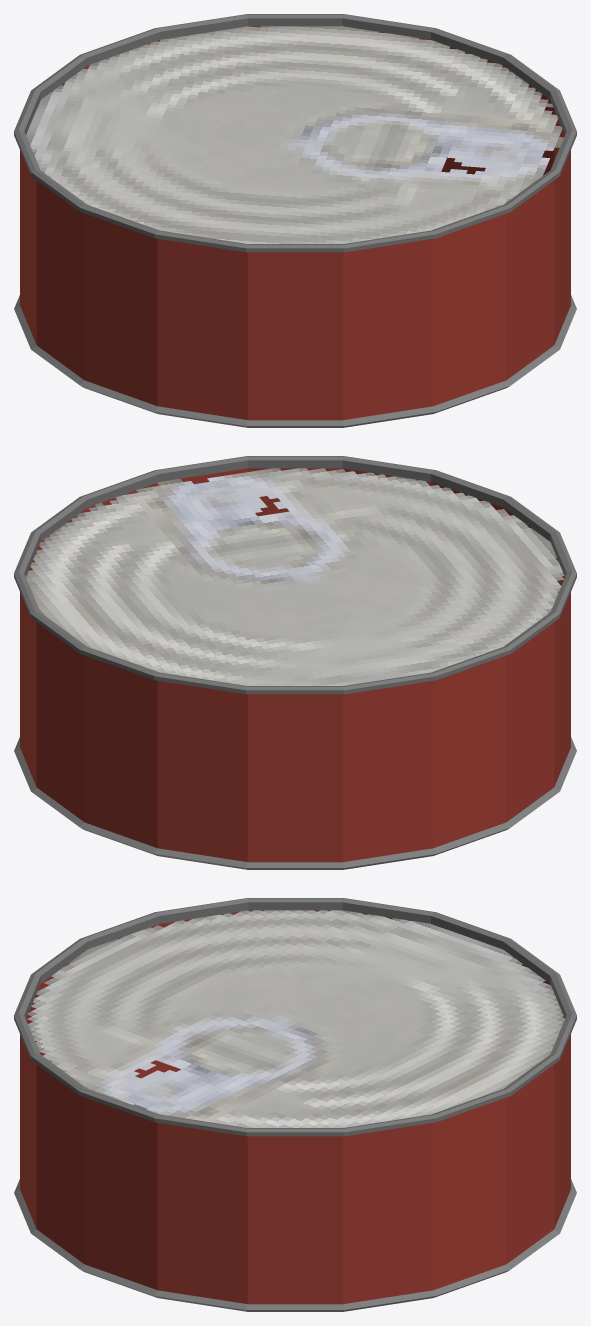
Rendered from TinCan.fbx.
The picture shows the model from 3 angles, top to bottom: view 1: azimuth 30°, elevation 25°; view 2: azimuth 150°, elevation 25°; view 3: azimuth 270°, elevation 25°; orthographic projection.
Visible parts, largest first — view 1: TinCan; view 2: TinCan; view 3: TinCan.
Part boxes in pixels (<box>): TinCan: <box>14,14,576,427</box>; TinCan: <box>14,456,576,869</box>; TinCan: <box>14,898,576,1311</box>.
Size of the model in its own units: 17.17 by 6.26 by 17.44.
